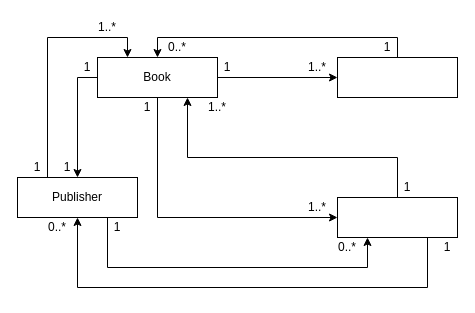
This 475x313 diagram has some shape labels left out. The centre of each missing label's shape, as x and y in pixels:
"Author" belongs at (397,217).
"Genre" belongs at (397,77).
